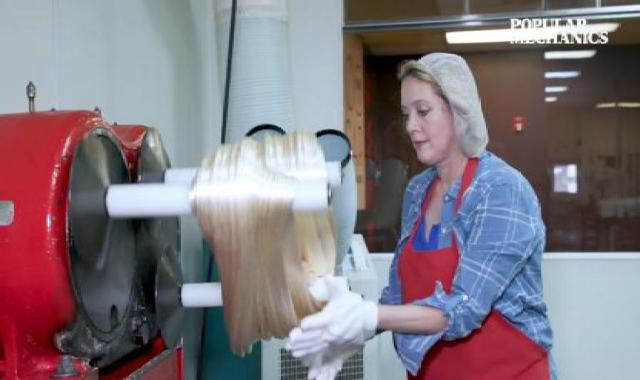hairnet: (399, 51, 492, 158)
